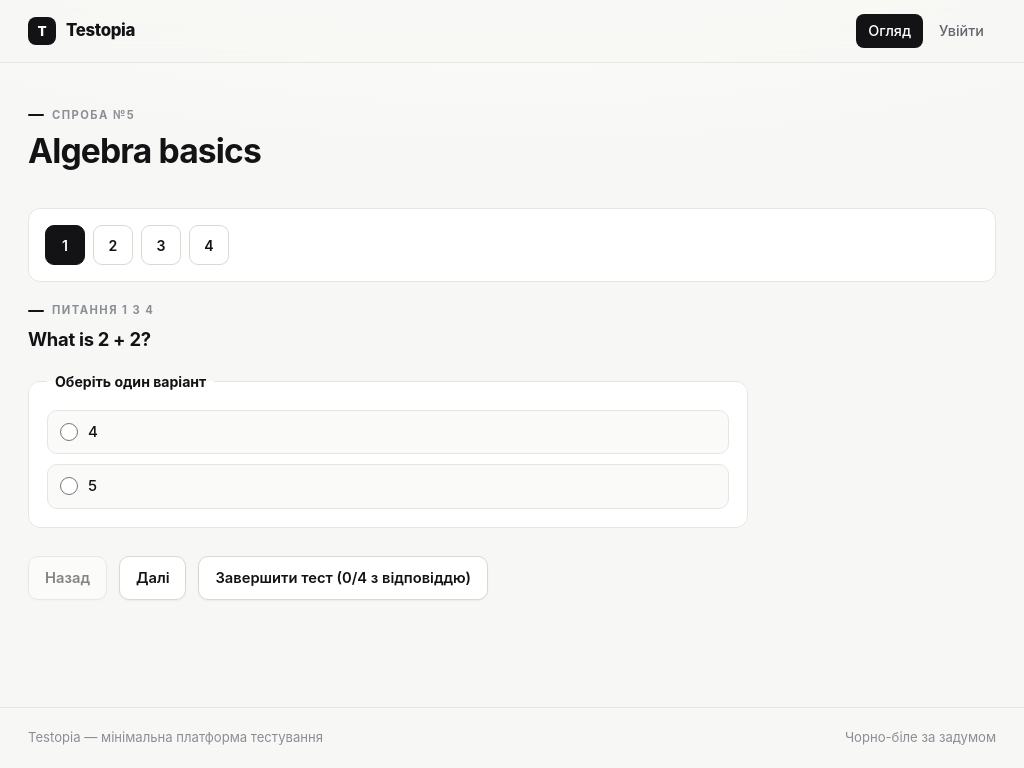
TakeTestPage › shows the hidden-answers state when the author hides results
Expected: the heading "What is 2 + 2?" is shown, [28,328,151,350]
Click the radio button labelled "4" at (69, 432), box [60,423,78,441]
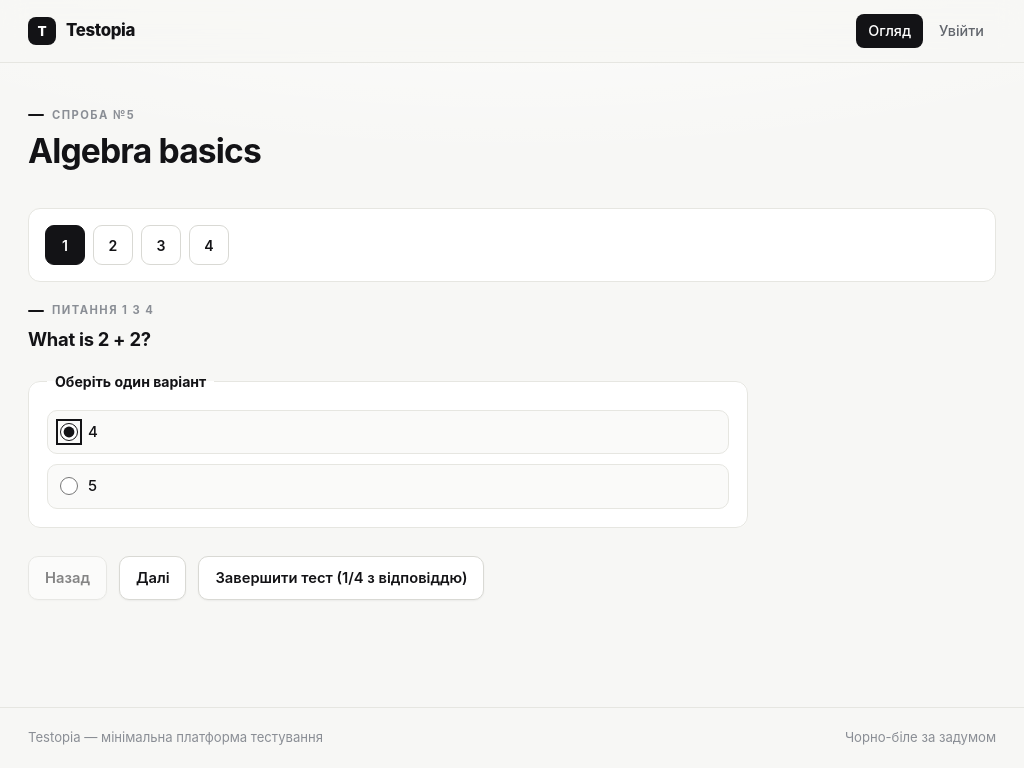
Click the button "Завершити тест (1/4 з відповіддю)" at (341, 578), box [198,556,484,600]
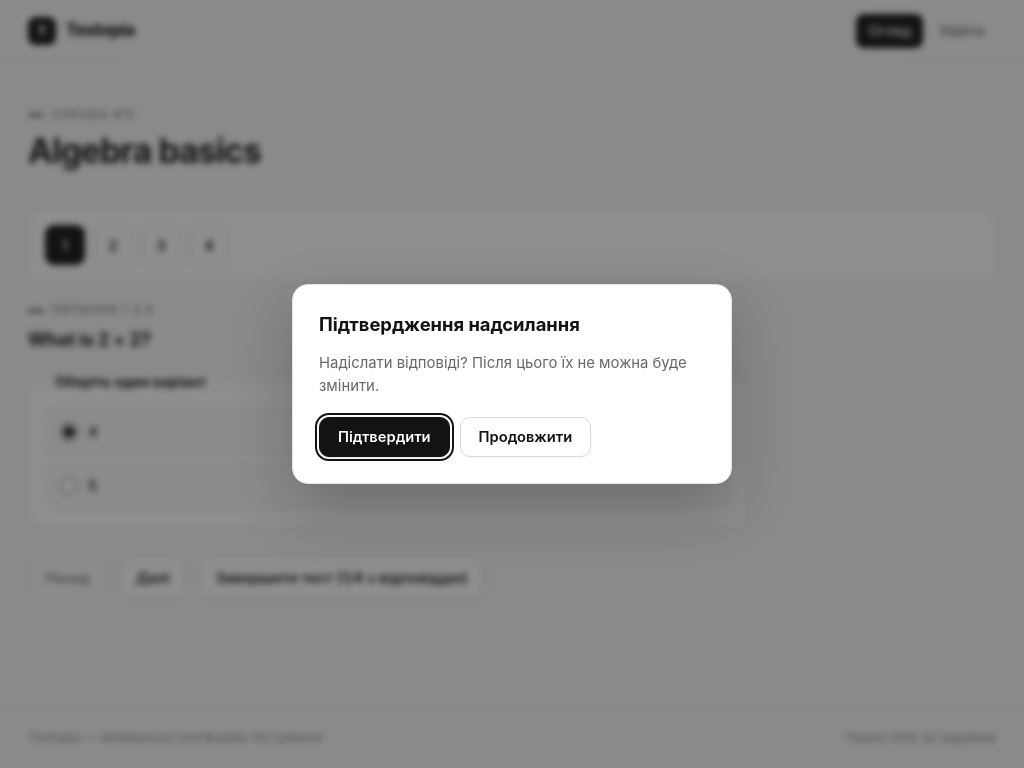
Click the button "Підтвердити" at (384, 437), box [319,417,450,457]
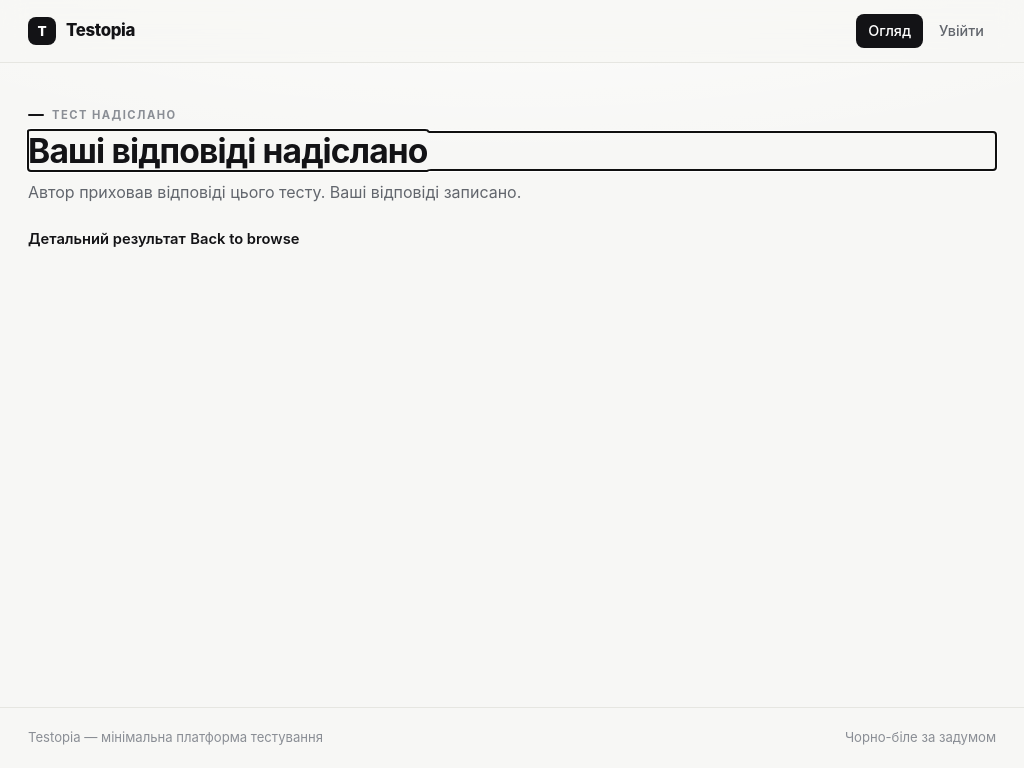
Result: the heading "Ваші відповіді надіслано" is shown at [28,130,428,171]
Result: the message shows "приховав відповіді" at [28,182,521,202]
